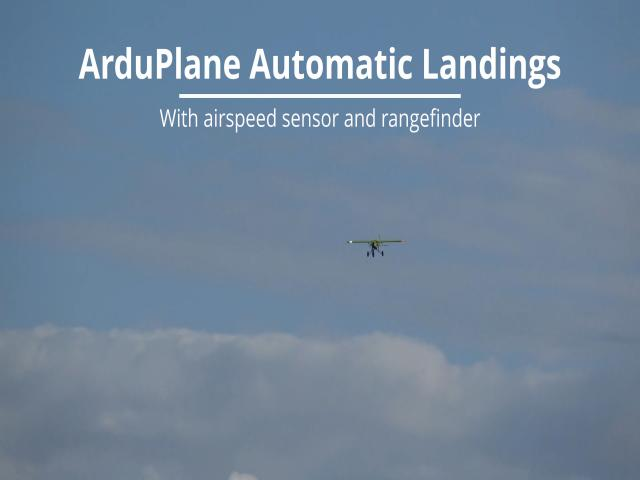plane: (345, 241, 404, 255)
